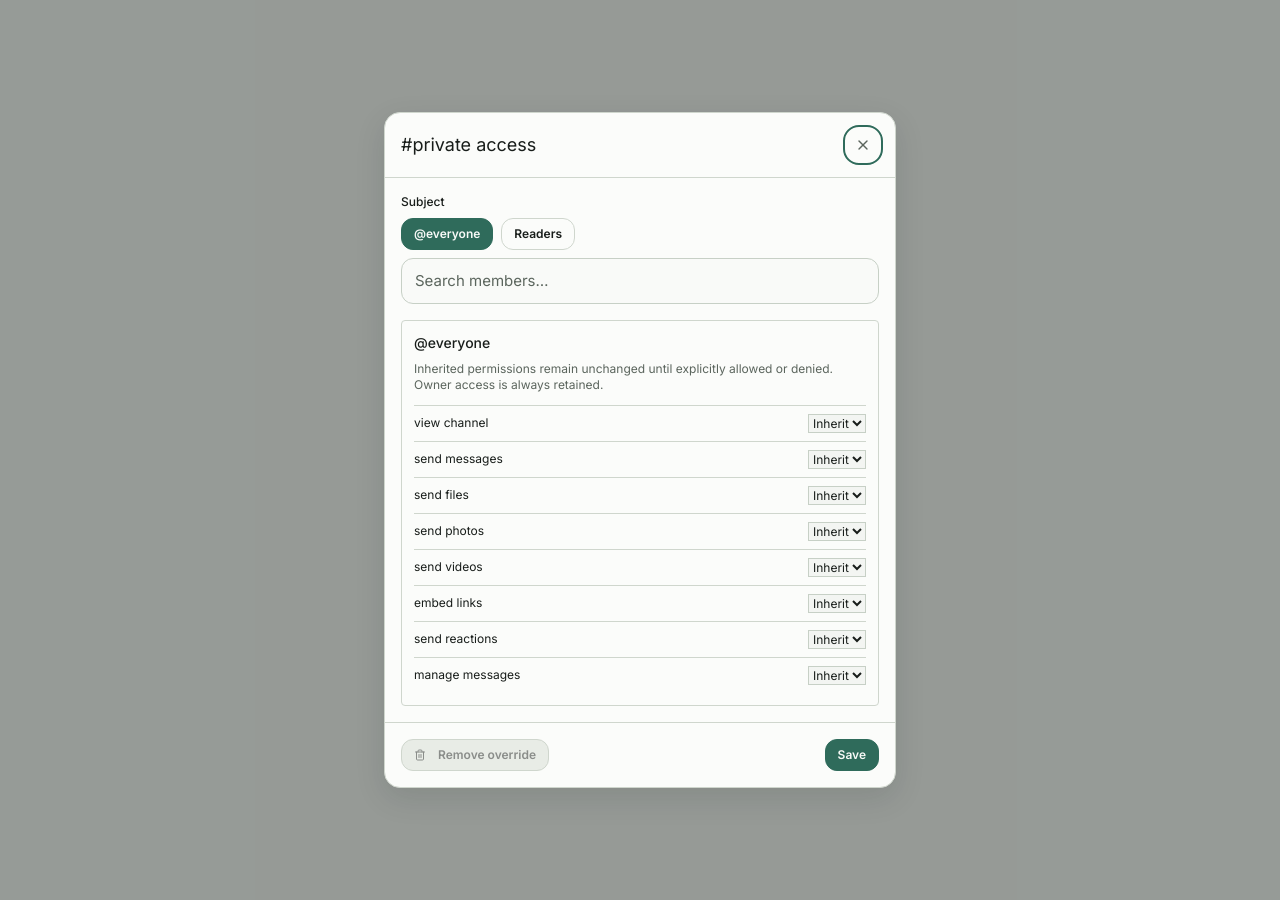
Test: ChannelAccessEditor › shows protected compatibility overrides as read-only
Click the button "Readers" at {"x": 538, "y": 234}, box [501,218,575,250]
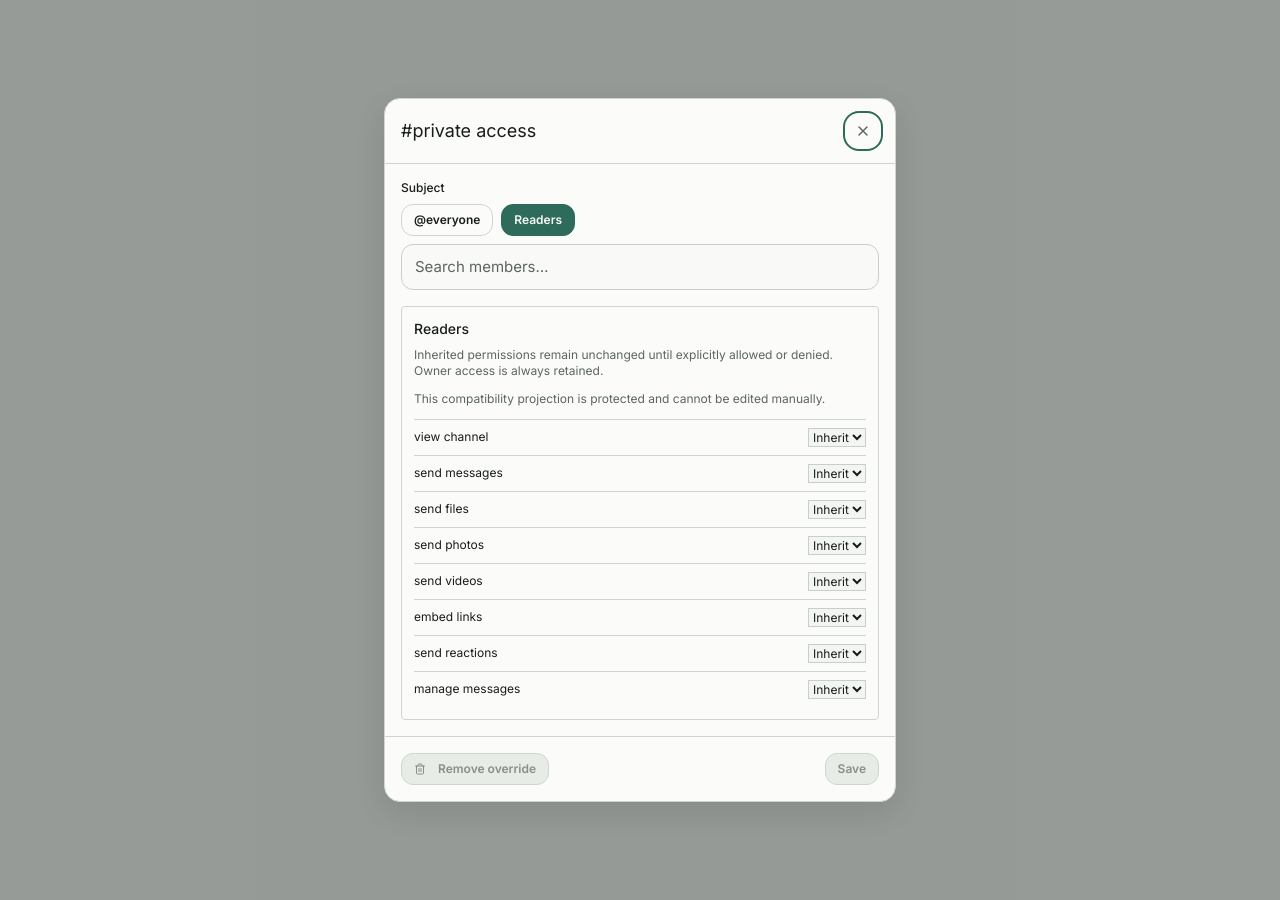
Check: the text "protected" is shown, box [414,391,825,406]
Check: the button "Save" is disabled, box [825,753,879,785]
